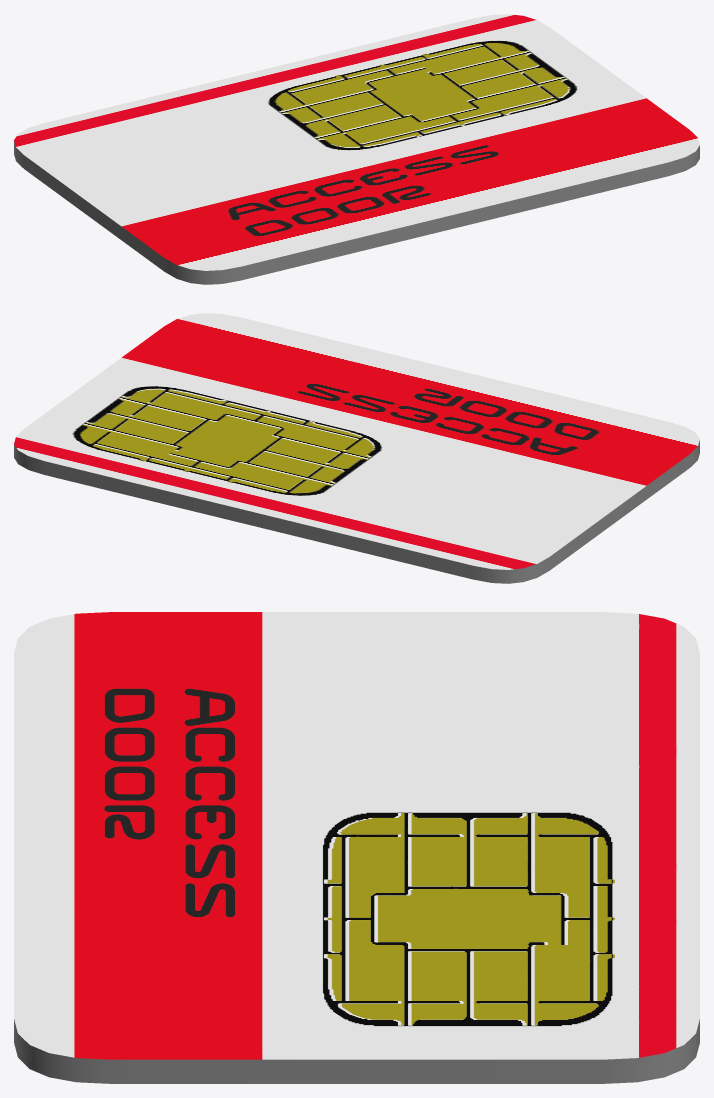
Rendered from card.FBX.
The picture shows the model from 3 angles, top to bottom: view 1: azimuth 30°, elevation 25°; view 2: azimuth 150°, elevation 25°; view 3: azimuth 270°, elevation 25°; orthographic projection. The views are drawn at different scales.
Parts seen in each view (by area): view 1: CARD; view 2: CARD; view 3: CARD.
Part boxes in pixels (bbox=[...]): CARD: bbox=[14, 14, 699, 284]; CARD: bbox=[14, 313, 699, 583]; CARD: bbox=[14, 612, 699, 1083].
Size of the model in its own units: 31.44 by 0.7931 by 20.36.
